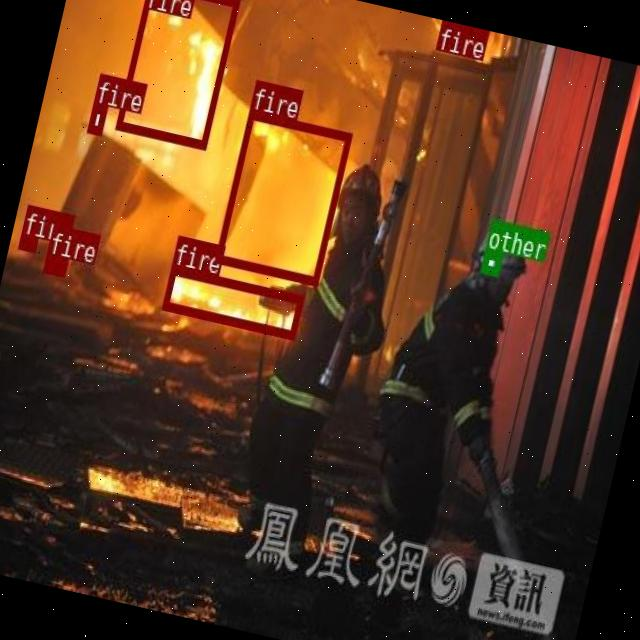fire: (214, 108, 352, 284), (113, 0, 238, 148), (161, 265, 303, 338), (86, 102, 107, 133), (436, 20, 460, 44), (42, 254, 66, 275), (18, 233, 36, 250)
